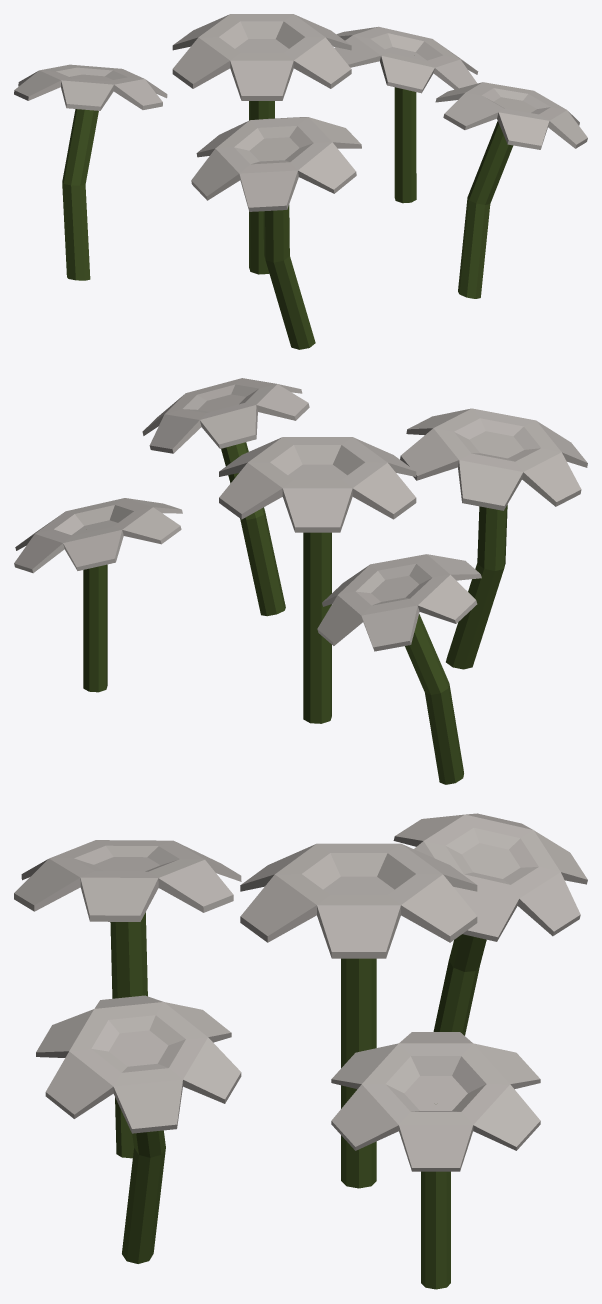
Rendered from ChamomilesStack_1.fbx.
3 renders of one model, top to bottom at view 1: azimuth 30°, elevation 25°; view 2: azimuth 150°, elevation 25°; view 3: azimuth 270°, elevation 25°, orthographic. The views are drawn at different scales.
Visible parts, largest first — view 1: ChamomilesStack_1; view 2: ChamomilesStack_1; view 3: ChamomilesStack_1.
Part boxes in pixels (left/top/right/bottom): ChamomilesStack_1: left=14, top=14, right=587, bottom=349; ChamomilesStack_1: left=14, top=378, right=587, bottom=784; ChamomilesStack_1: left=14, top=813, right=587, bottom=1289.
Bounding box in the file's own units: 23.3 × 12.28 × 20.56.
